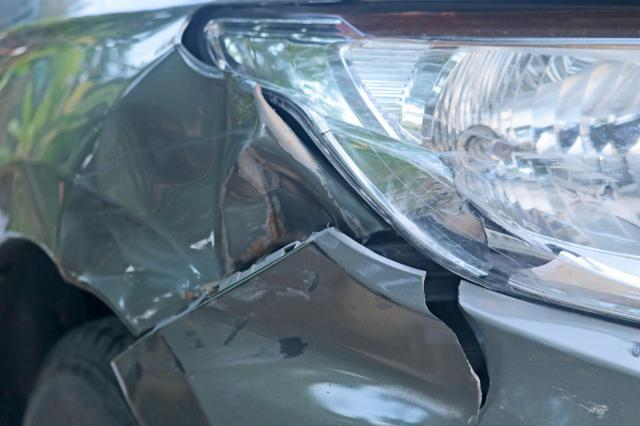crack: (421, 273, 493, 411)
dent: (55, 49, 335, 325), (169, 242, 478, 417)
